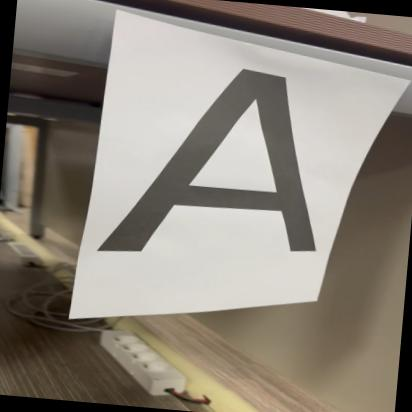seat: (98, 53, 339, 278)
